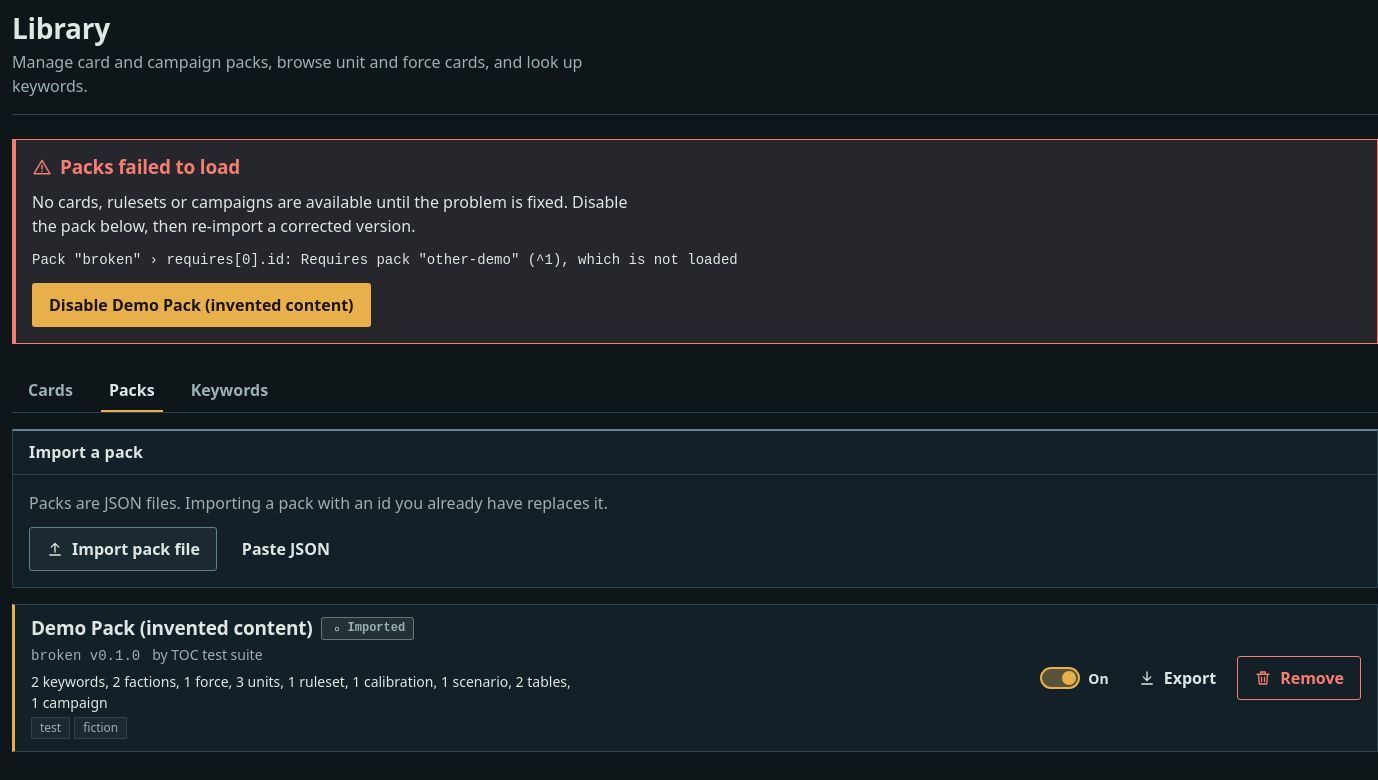
Scenario: LibraryPage › offers one-tap recovery when the enabled set fails to load
Click the button "Disable Demo Pack (invented content)": (201, 305) [32,283,370,327]
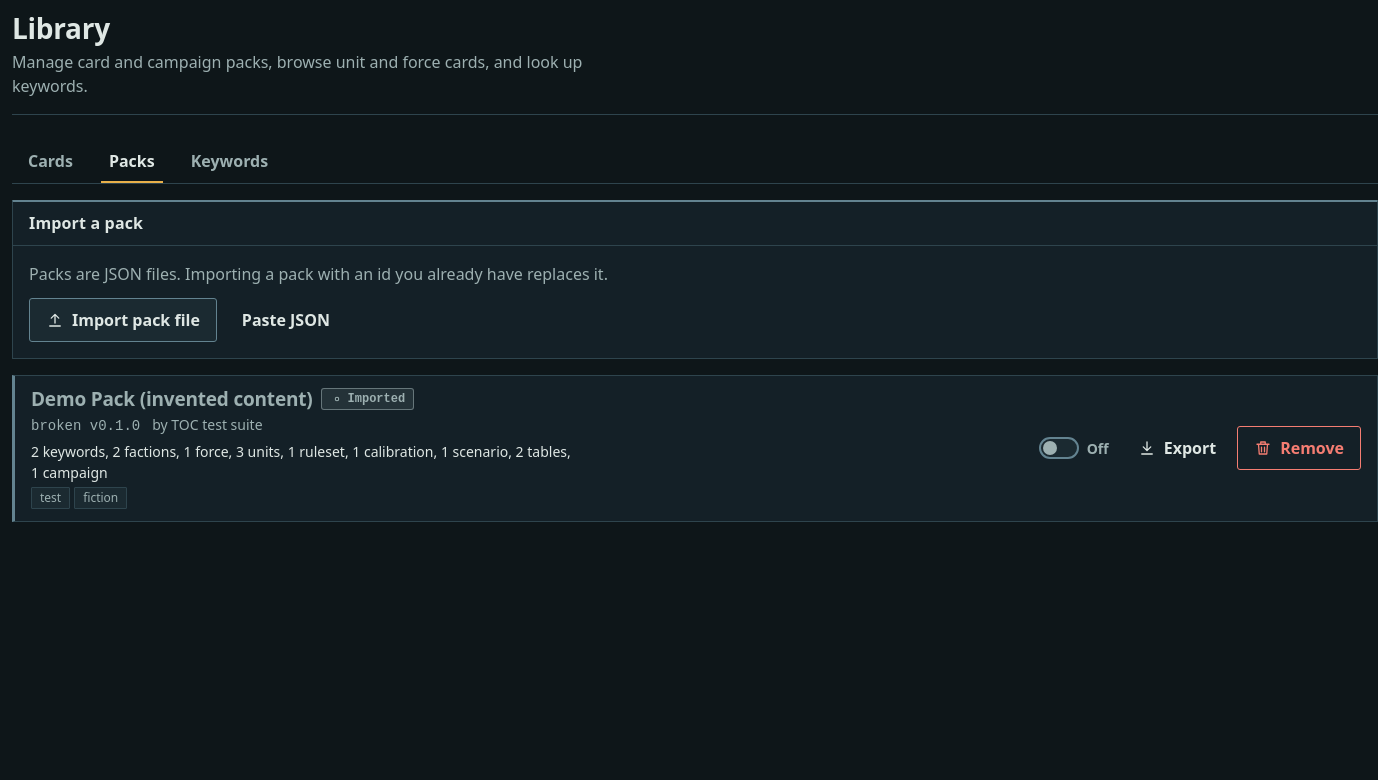
Expected: the text "Packs failed to load" is gone
